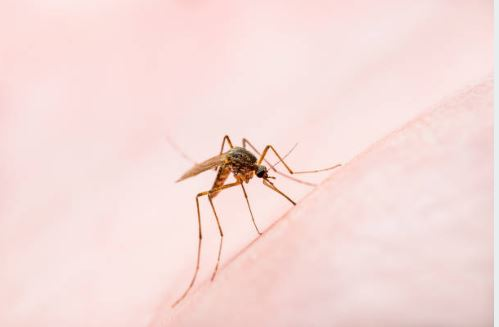dengue_mosquito: (175, 134, 296, 234)
